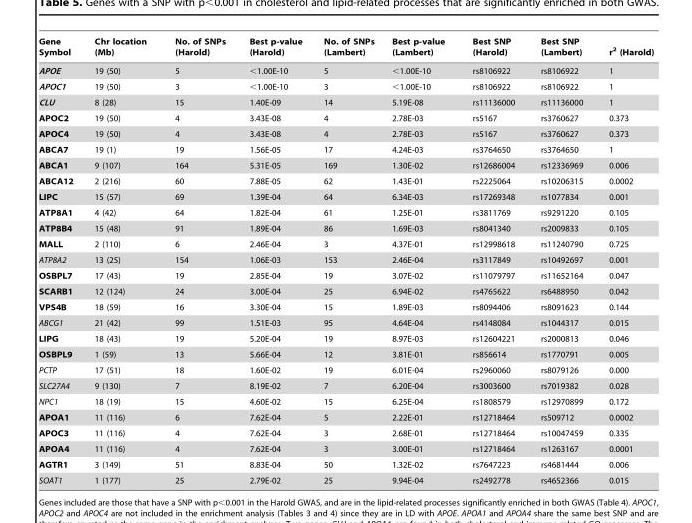table: (37, 36, 653, 484)
table column: (83, 36, 160, 484), (160, 36, 236, 484), (236, 36, 312, 484), (382, 36, 457, 484), (312, 36, 382, 484), (457, 36, 527, 484), (527, 36, 595, 484), (595, 36, 653, 484), (37, 36, 83, 484)
table column header: (37, 36, 653, 61)
table row: (37, 36, 653, 61), (37, 61, 653, 78), (37, 78, 653, 94), (37, 94, 653, 110), (37, 125, 653, 141), (37, 141, 653, 157), (37, 157, 653, 173), (37, 188, 653, 204), (37, 204, 653, 220), (37, 220, 653, 236), (37, 251, 653, 267), (37, 267, 653, 283), (37, 283, 653, 299), (37, 314, 653, 330), (37, 330, 653, 346), (37, 346, 653, 362), (37, 377, 653, 393), (37, 393, 653, 409), (37, 409, 653, 425), (37, 440, 653, 456), (37, 456, 653, 472), (37, 110, 653, 125), (37, 173, 653, 188), (37, 236, 653, 251), (37, 299, 653, 314), (37, 362, 653, 377), (37, 425, 653, 440), (37, 472, 653, 484)
